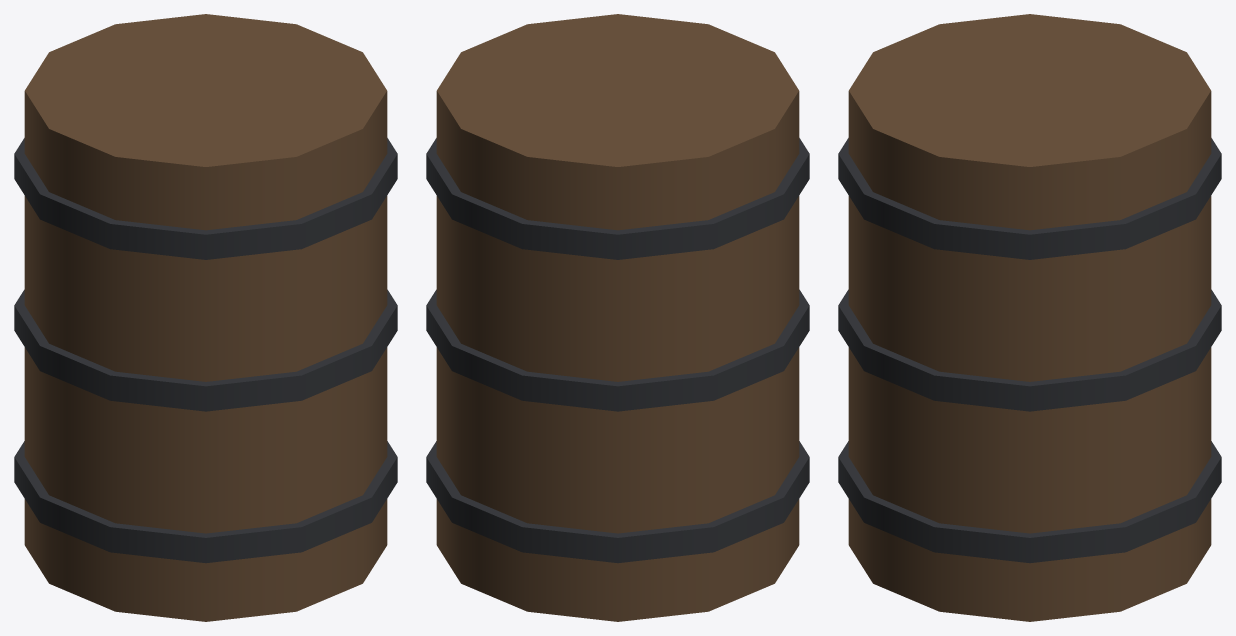
Rendered from item-barrel.glb.
3 renders of one model, left to right at view 1: azimuth 30°, elevation 25°; view 2: azimuth 150°, elevation 25°; view 3: azimuth 270°, elevation 25°, orthographic.
Parts seen in each view (by area): view 1: #6a5038, #34363a metal 0.5 rough 0.5_noshadow; view 2: #6a5038, #34363a metal 0.5 rough 0.5_noshadow; view 3: #6a5038, #34363a metal 0.5 rough 0.5_noshadow.
Part boxes in pixels (box(x1,y1,x2,y2)): #6a5038: box(24, 14, 387, 621); #34363a metal 0.5 rough 0.5_noshadow: box(14, 138, 397, 563); #6a5038: box(436, 14, 799, 621); #34363a metal 0.5 rough 0.5_noshadow: box(426, 138, 809, 563); #6a5038: box(848, 14, 1211, 621); #34363a metal 0.5 rough 0.5_noshadow: box(838, 138, 1221, 563).
Size of the model in its own units: 0.55 by 0.72 by 0.55.
